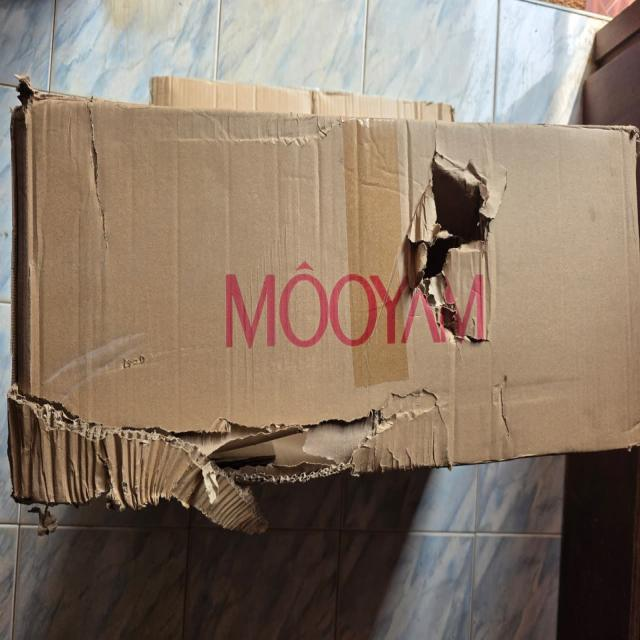carton_box: (4, 62, 640, 533)
package_damage: (3, 315, 456, 552), (368, 126, 591, 404), (0, 31, 145, 210)
